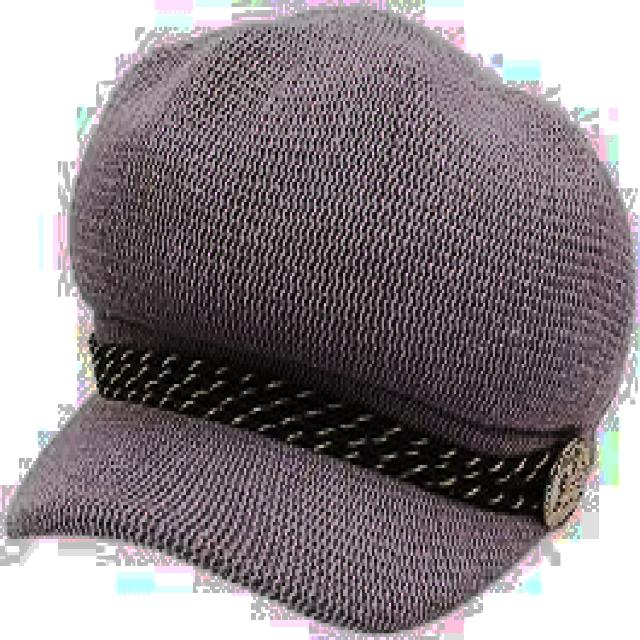TOPI: (2, 10, 633, 633)
